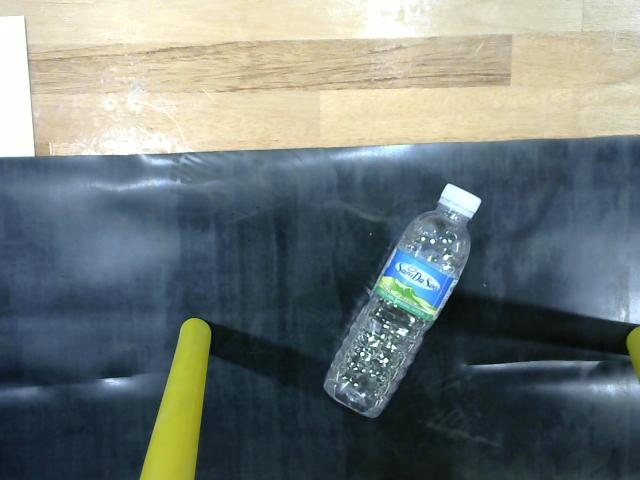bottle: (312, 179, 488, 430)
